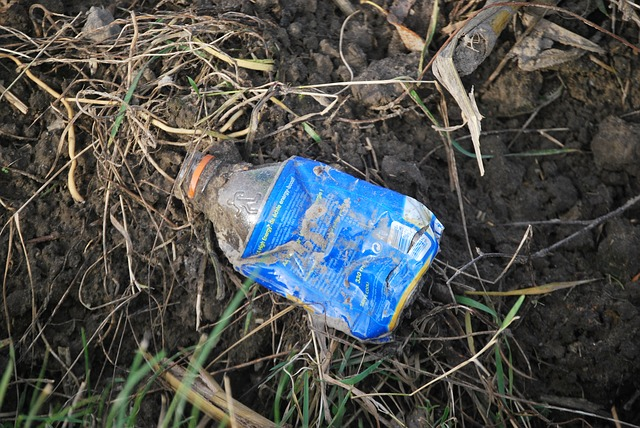plastic_bottle: (171, 142, 449, 352)
